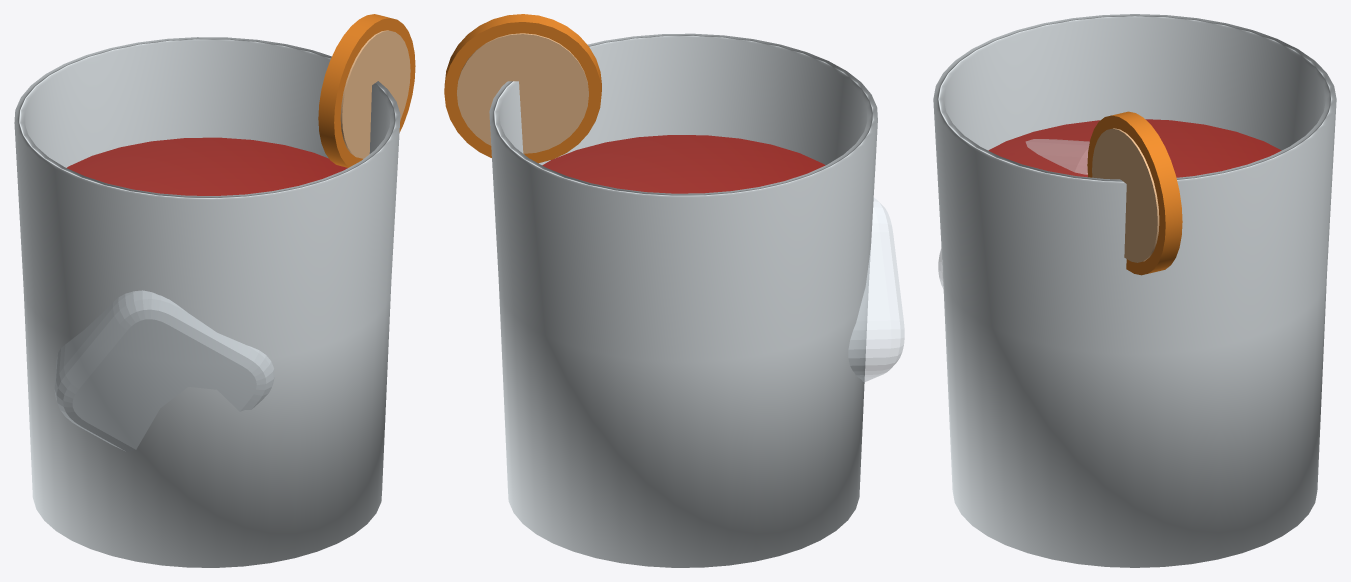
Rendered from bibite-americano.glb.
3 views of the same model, side by side, from view 1: azimuth 30°, elevation 25°; view 2: azimuth 150°, elevation 25°; view 3: azimuth 270°, elevation 25° (orthographic). The views are drawn at different scales.
Bounding box in the file's own units: 0.1017 × 0.104 × 0.084.
